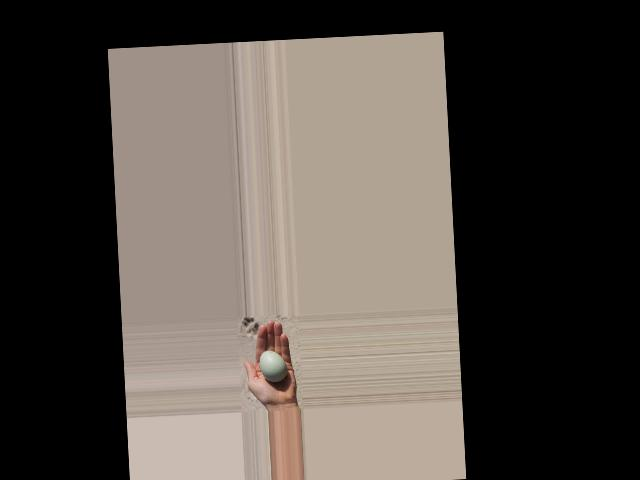egg: (259, 350, 287, 382)
